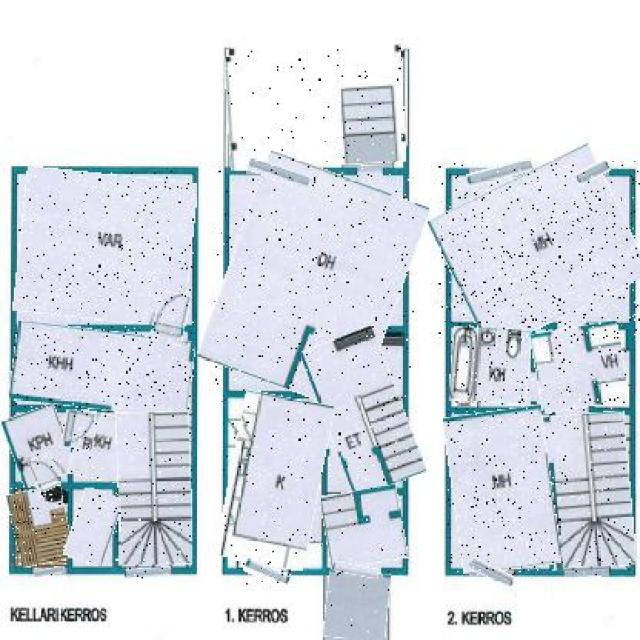door: (154, 292, 188, 343), (63, 411, 97, 451), (31, 454, 60, 491)
window: (246, 163, 309, 185), (466, 163, 532, 182), (244, 562, 290, 584), (471, 562, 517, 582), (577, 163, 611, 182), (332, 565, 378, 577), (124, 568, 170, 578), (563, 568, 609, 577), (359, 166, 383, 182), (34, 568, 64, 577)
zone: (214, 163, 414, 403), (438, 160, 640, 335), (17, 170, 194, 324), (226, 48, 405, 169), (223, 394, 326, 568), (448, 408, 557, 572), (312, 329, 414, 494), (12, 326, 194, 414), (545, 412, 632, 570), (117, 412, 192, 565), (532, 323, 626, 411), (323, 488, 406, 568), (451, 329, 531, 406), (71, 412, 152, 485), (8, 408, 72, 484), (11, 486, 71, 566), (323, 571, 389, 640), (68, 490, 120, 564)
